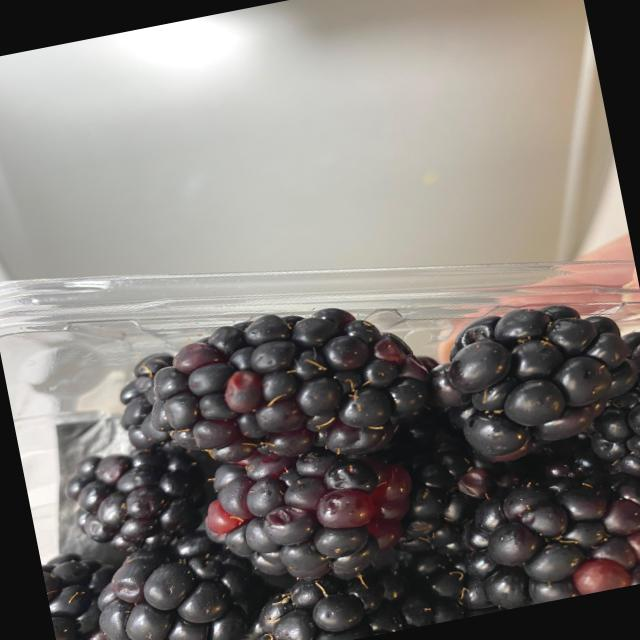blackberries: (8, 274, 640, 640)
